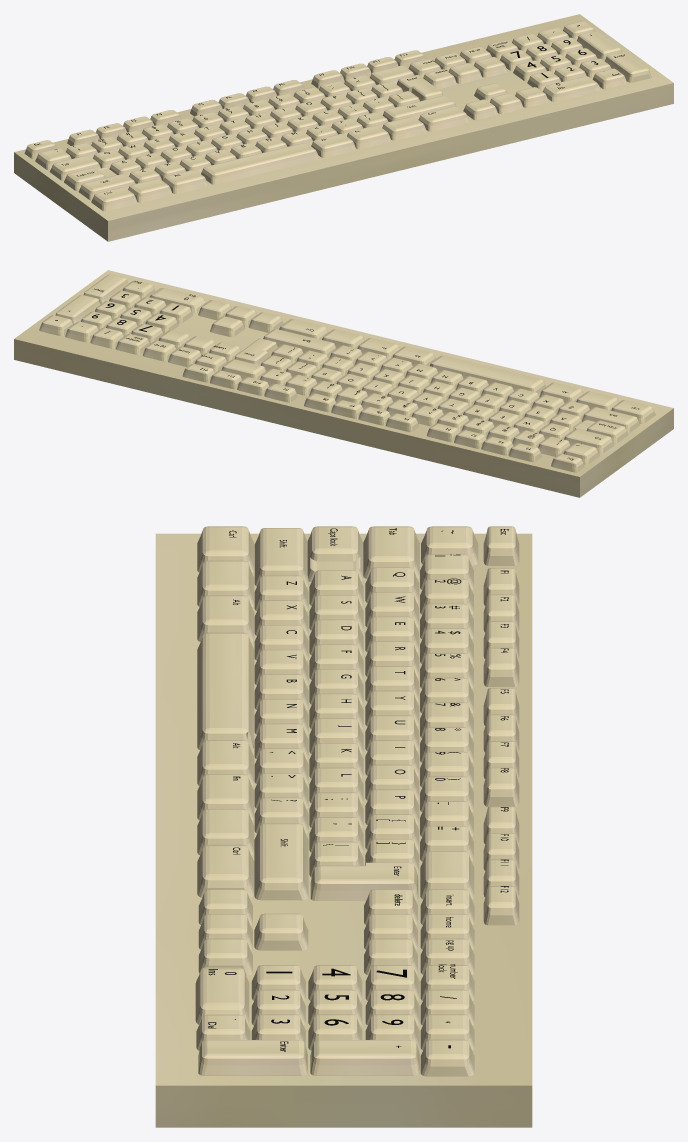
The model's file is 4keyboard.glb.
The picture shows the model from 3 angles, top to bottom: view 1: azimuth 30°, elevation 25°; view 2: azimuth 150°, elevation 25°; view 3: azimuth 270°, elevation 25°; orthographic projection. The views are drawn at different scales.
Parts seen in each view (by area): view 1: Cube.014_14, Cube.017_17, Cube.016_16, Cube.018_18, Cube.015_15, Cube.005_5, Cube.022_22, Cube.024_24, Cube.035_35, Cube.036_36, Cube.037_37, Cube.028_28 (+25 smaller); view 2: Cube.014_14, Cube.018_18, Cube.016_16, Cube.017_17, Cube.015_15, Cube.036_36, Cube.035_35, Cube.037_37, Cube.005_5, Cube.027_27, Cube.025_25, Cube.022_22 (+25 smaller); view 3: Cube.014_14, Cube.016_16, Cube.017_17, Cube.018_18, Cube.015_15, Cube.005_5, Cube.037_37, Cube.022_22, Cube.035_35, Cube.036_36, Cube.012_12, Cube.025_25 (+26 smaller).
Boxes of the visible parts, x1,y1,x2,y2 form: Cube.014_14: (14, 14, 673, 241); Cube.017_17: (93, 81, 403, 168); Cube.016_16: (109, 91, 419, 176); Cube.018_18: (66, 75, 375, 158); Cube.015_15: (129, 112, 388, 183); Cube.005_5: (201, 143, 319, 184); Cube.022_22: (463, 87, 548, 120); Cube.024_24: (423, 57, 507, 89); Cube.035_35: (67, 110, 181, 145); Cube.036_36: (190, 80, 304, 116); Cube.037_37: (311, 50, 425, 88); Cube.028_28: (527, 58, 611, 91); Cube.014_14: (14, 270, 673, 497); Cube.018_18: (260, 368, 570, 456); Cube.016_16: (271, 344, 582, 431); Cube.017_17: (260, 355, 570, 439); Cube.015_15: (329, 345, 589, 420); Cube.036_36: (304, 393, 419, 432); Cube.035_35: (427, 423, 541, 462); Cube.037_37: (182, 364, 297, 402); Cube.005_5: (429, 355, 546, 394); Cube.027_27: (65, 321, 149, 354); Cube.025_25: (142, 340, 227, 372); Cube.022_22: (198, 300, 283, 332); Cube.014_14: (155, 533, 532, 1127); Cube.016_16: (309, 570, 363, 877); Cube.017_17: (365, 567, 419, 874); Cube.018_18: (420, 554, 473, 861); Cube.015_15: (254, 575, 308, 833); Cube.005_5: (197, 633, 254, 750); Cube.037_37: (483, 806, 519, 925); Cube.022_22: (198, 889, 252, 975); Cube.035_35: (483, 568, 519, 686); Cube.036_36: (483, 688, 519, 806); Cube.012_12: (254, 823, 308, 900); Cube.025_25: (420, 889, 474, 974).
Size of the model in its own units: 11.17 by 0.6112 by 3.22.
Materials: 3 (2 with a texture image).
